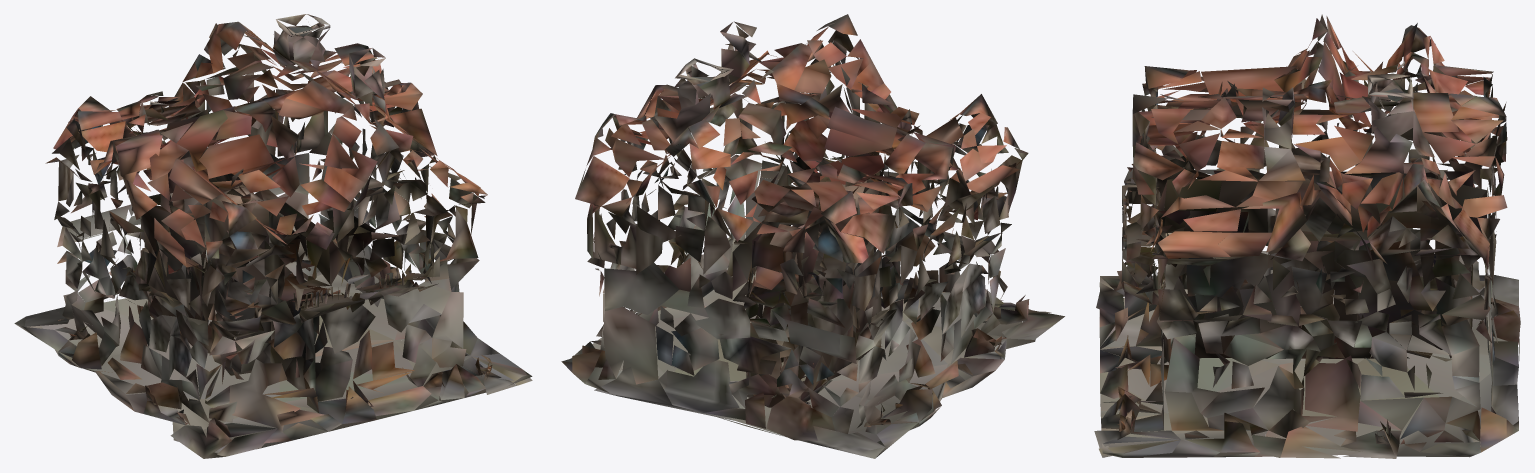
File: A_modular_medieval_ho_town.glb
The picture shows the model from 3 angles, left to right: view 1: azimuth 30°, elevation 25°; view 2: azimuth 150°, elevation 25°; view 3: azimuth 270°, elevation 25°; orthographic projection. The views are drawn at different scales.
Parts seen in each view (by area): view 1: A_modular_medieval_ho; view 2: A_modular_medieval_ho; view 3: A_modular_medieval_ho.
Boxes of the visible parts, box(x1,y1,x2,y2) form: A_modular_medieval_ho: box(14, 14, 532, 458); A_modular_medieval_ho: box(561, 14, 1064, 458); A_modular_medieval_ho: box(1094, 14, 1520, 458).
Bounding box in the file's own units: 2.02 × 1.67 × 2.02.
1 material, 1 textured.
